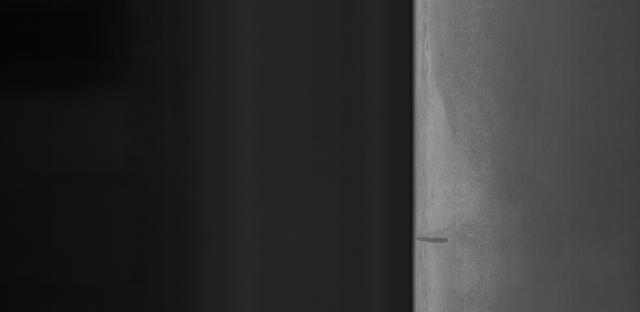oil_spot: (414, 231, 452, 252)
